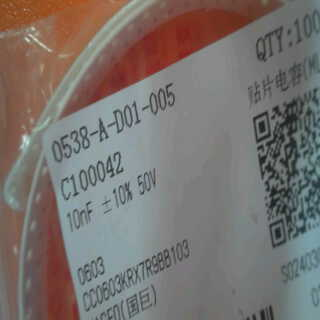10nF: (62, 199, 99, 232)
